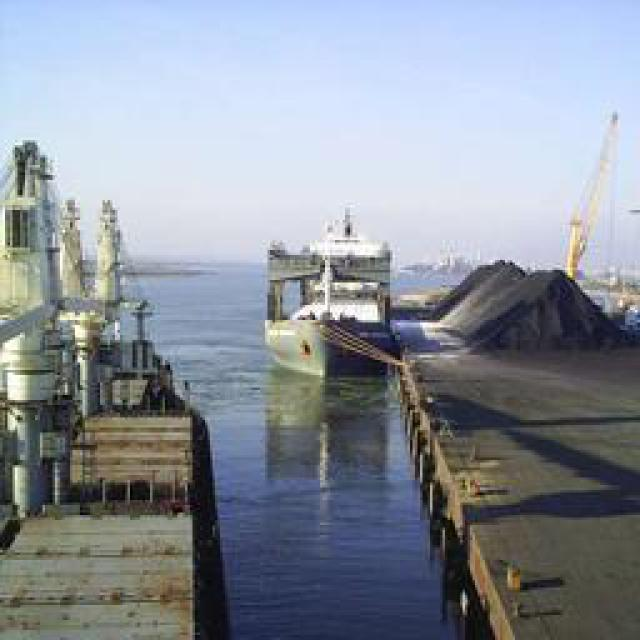Ship: (275, 210, 398, 378)
